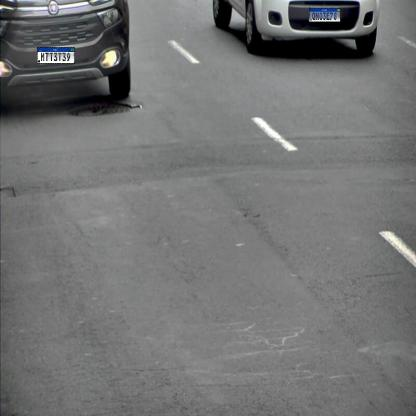PlacaM: (37, 47, 75, 64), (309, 8, 340, 22)
